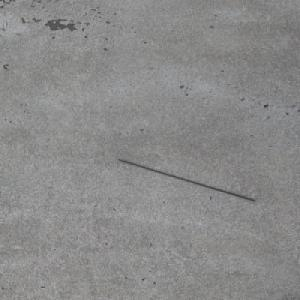LuggagePart: (116, 158, 256, 202)
